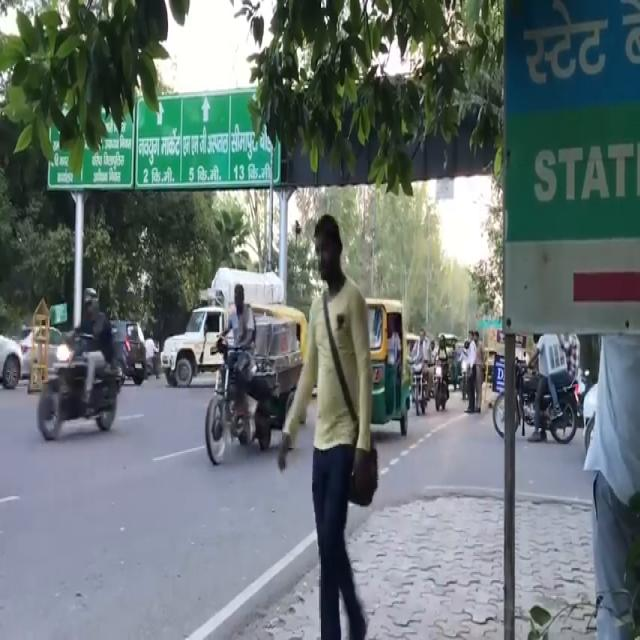MOTORCYCLE: (199, 332, 269, 470), (35, 347, 119, 445), (495, 365, 579, 445)
TRUCK: (167, 303, 234, 390)
